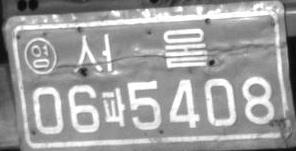0: (203, 77, 237, 127), (32, 86, 63, 134)
4: (168, 78, 200, 128)
5: (127, 79, 161, 130)
6: (67, 83, 100, 133)
8: (240, 75, 275, 125)
서울_D: (73, 28, 207, 72)
영: (23, 36, 57, 75)
파: (101, 87, 126, 127)
